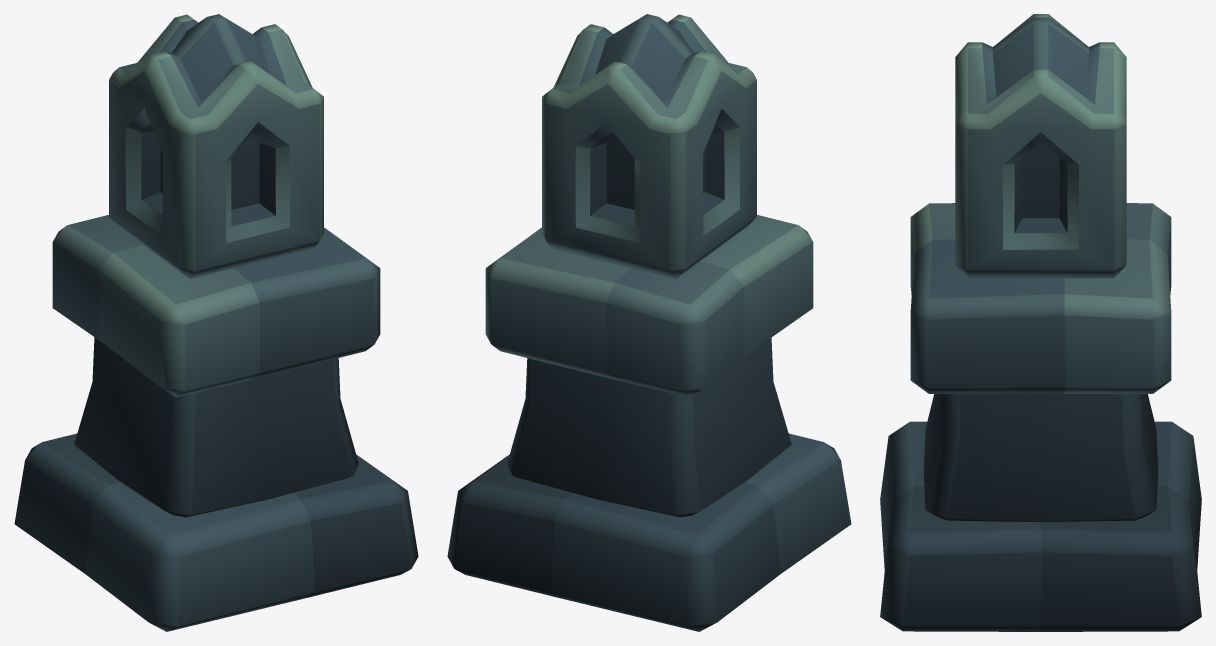
Rendered from torch_1.fbx.
The picture shows the model from 3 angles, left to right: view 1: azimuth 30°, elevation 25°; view 2: azimuth 150°, elevation 25°; view 3: azimuth 270°, elevation 25°; orthographic projection. The views are drawn at different scales.
Visible parts, largest first — view 1: torch_1; view 2: torch_1; view 3: torch_1.
Part boxes in pixels (<box>): torch_1: <box>14,14,418,631</box>; torch_1: <box>447,14,851,631</box>; torch_1: <box>880,14,1201,631</box>.
Bounding box in the file's own units: 129 × 246 × 129.
